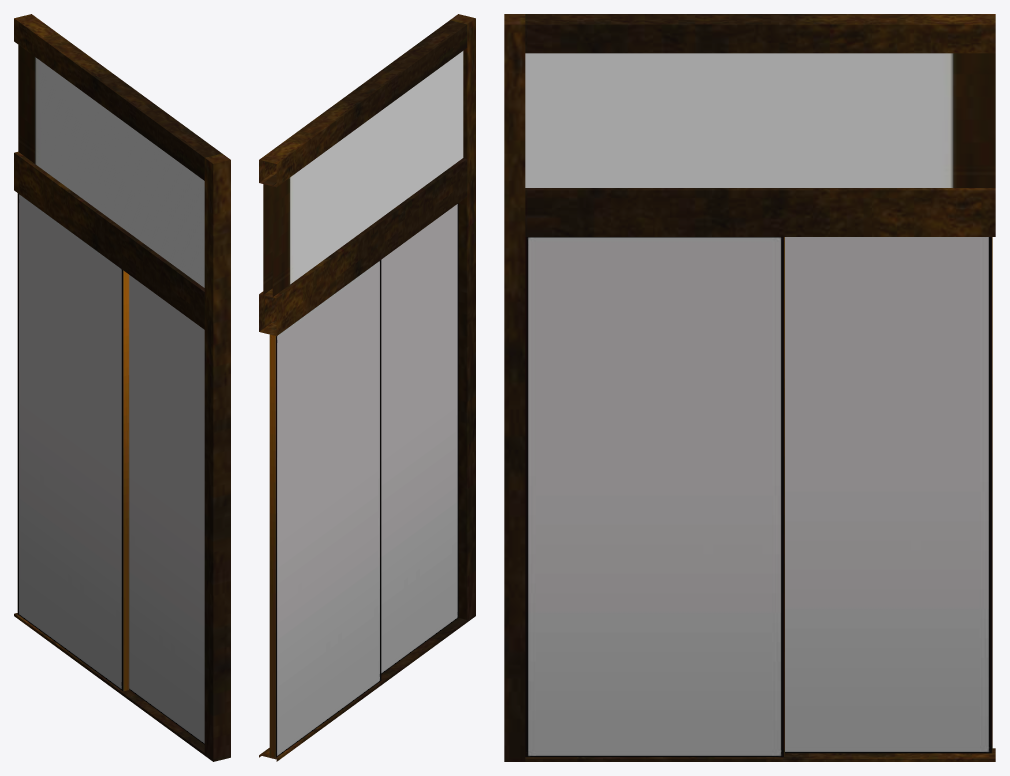
The model's file is TypeA_door_Right.fbx.
3 renders of one model, left to right at view 1: azimuth 30°, elevation 25°; view 2: azimuth 150°, elevation 25°; view 3: azimuth 270°, elevation 25°, orthographic. The views are drawn at different scales.
Parts seen in each view (by area): view 1: SP_UP, Door_L, door_R; view 2: SP_UP, Door_L, door_R; view 3: door_R, SP_UP, Door_L.
Part boxes in pixels (x1=…): SP_UP: x1=14, y1=14, x2=230, y2=761; Door_L: x1=17, y1=193, x2=129, y2=691; door_R: x1=129, y1=275, x2=204, y2=744; SP_UP: x1=259, y1=14, x2=475, y2=761; Door_L: x1=269, y1=260, x2=381, y2=757; door_R: x1=381, y1=203, x2=458, y2=673; door_R: x1=525, y1=237, x2=784, y2=756; SP_UP: x1=504, y1=14, x2=995, y2=761; Door_L: x1=785, y1=237, x2=992, y2=753.
Size of the model in its own units: 7.42 by 241 by 146.
